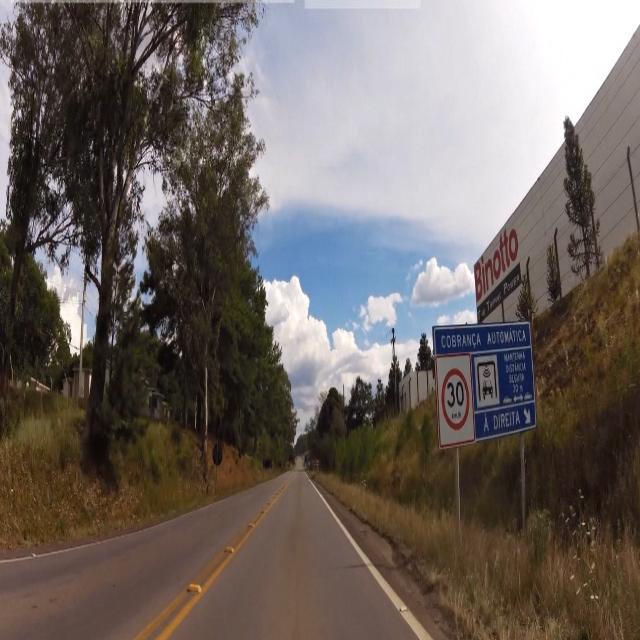R-19: (439, 360, 473, 446)
